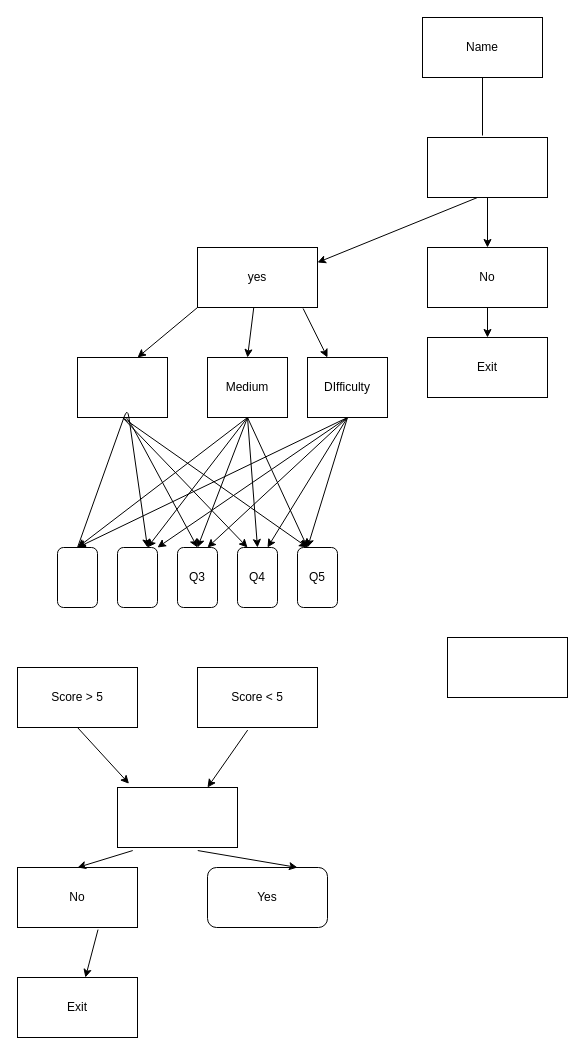
Some shapes in this 585 by 1055 pixel diagram are drawn without their labels. Here are the shapes that lost their labels. From the top down, the centre of each, then its label:
point 487,167: want to play
point 122,387: Easy
point 77,577: Q1
point 137,577: Q2
point 507,667: Ctrl+z
point 177,817: Play again
